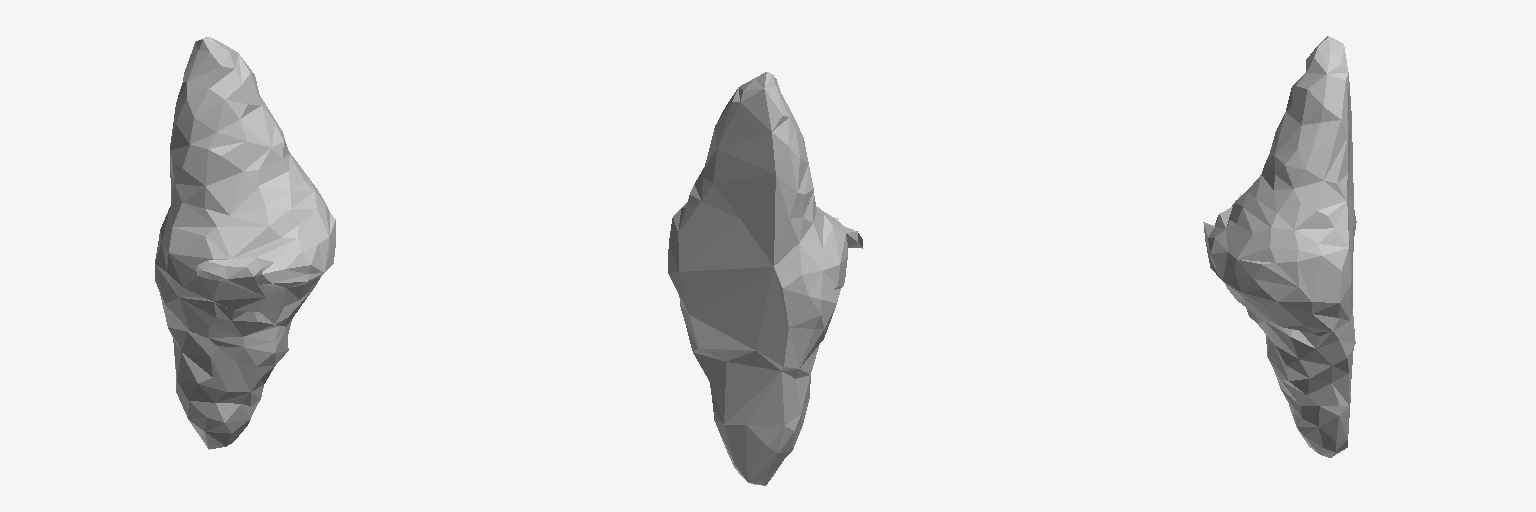
The model's file is croissant_01_L1.obj.
3 renders of one model, left to right at view 1: azimuth 30°, elevation 25°; view 2: azimuth 150°, elevation 25°; view 3: azimuth 270°, elevation 25°, orthographic.
Parts seen in each view (by area): view 1: croissant_01_L1; view 2: croissant_01_L1; view 3: croissant_01_L1.
Boxes of the visible parts, <box> form: croissant_01_L1: <box>155,37,335,449</box>; croissant_01_L1: <box>668,72,862,485</box>; croissant_01_L1: <box>1203,36,1356,457</box>.
Bounding box in the file's own units: 2.75 × 6.83 × 2.28.